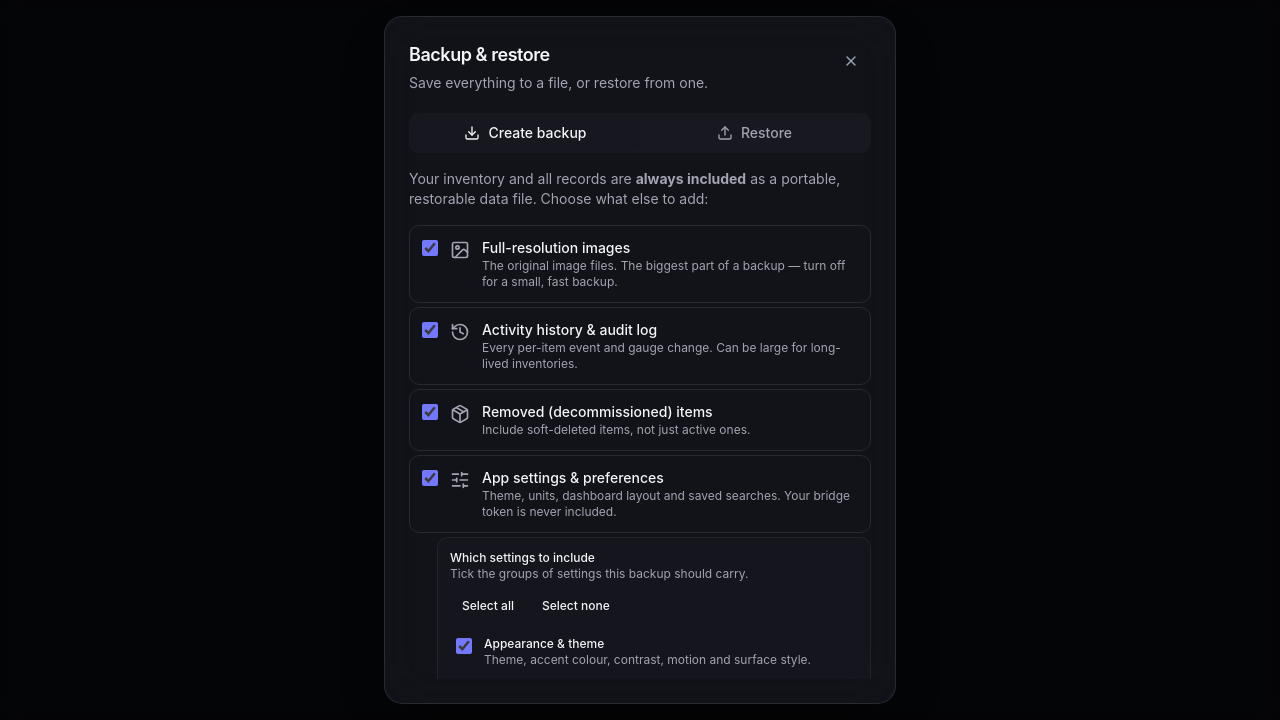
it: BackupDialog — choosing which settings travel (issue #175) › offers every group under the settings toggle, and hides them when it is off
The image size is (1280, 720).
expect the checkbox with test id "backup-setting-group-appearance" is shown: met, box [456,638,472,654]
What coordinates should you click on to do the following:
click the checkbox with test id "backup-toggle-settings"
I would click on:
 (430, 478)
Its box is [422,470,438,486].
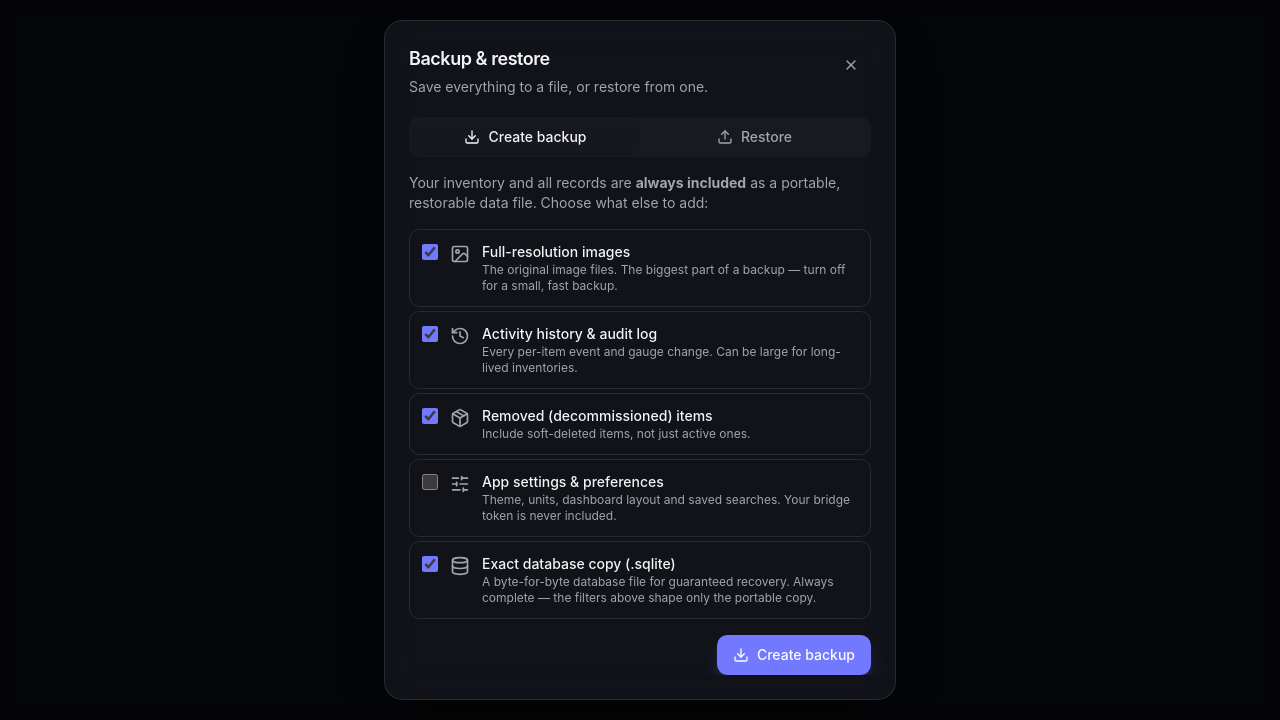
expect the checkbox with test id "backup-setting-group-appearance" is gone: met
